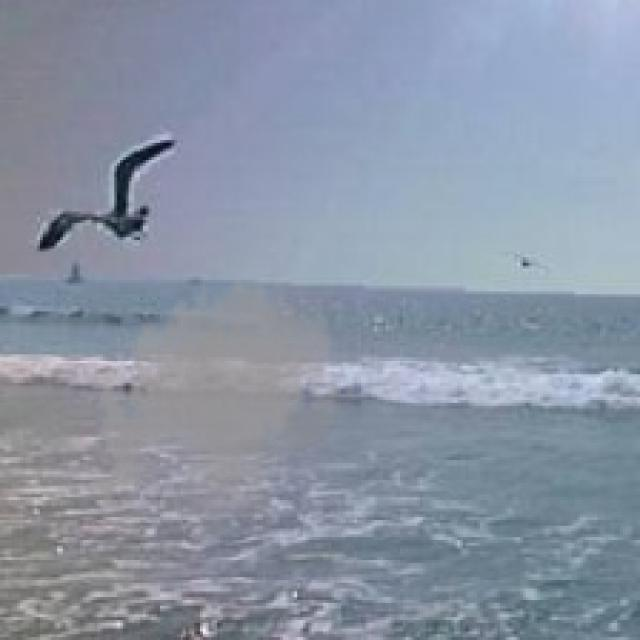Smoke: (83, 268, 360, 548)
